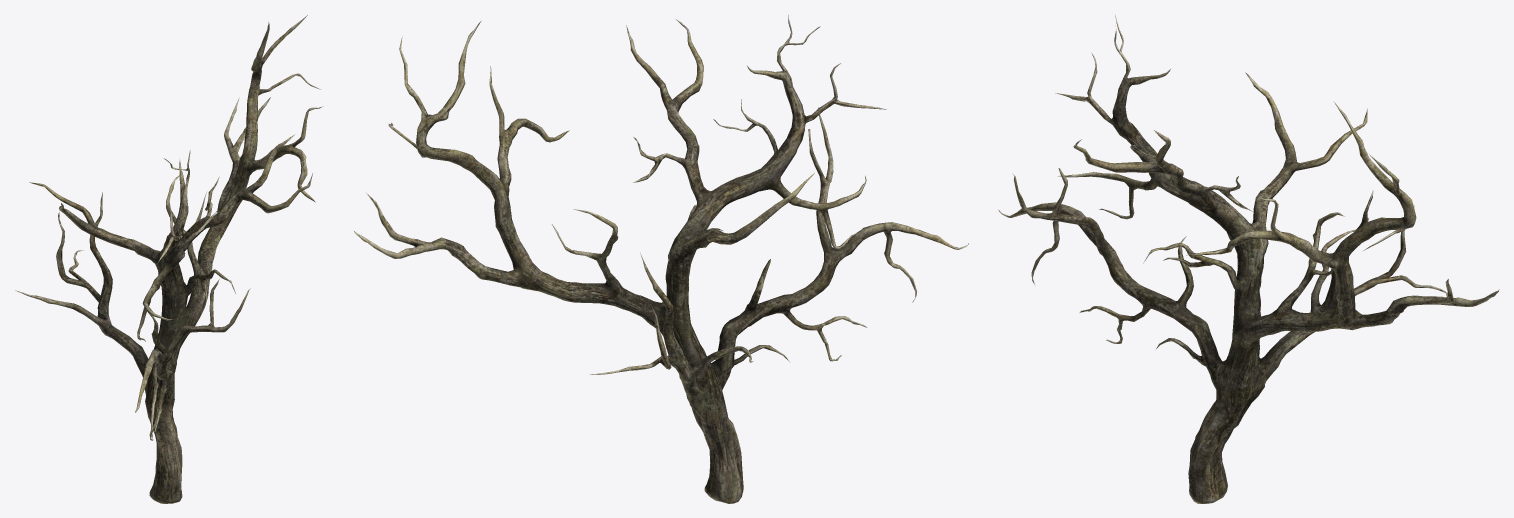
The model's file is DryTreeT3_branches_3_SM.fbx.
3 renders of one model, left to right at view 1: azimuth 30°, elevation 25°; view 2: azimuth 150°, elevation 25°; view 3: azimuth 270°, elevation 25°, orthographic. The views are drawn at different scales.
Parts seen in each view (by area): view 1: DryTreeT3_branches_3_SM; view 2: DryTreeT3_branches_3_SM; view 3: DryTreeT3_branches_3_SM.
Boxes of the visible parts, left/top/right/bottom form: DryTreeT3_branches_3_SM: left=15, top=15, right=323, bottom=503; DryTreeT3_branches_3_SM: left=354, top=15, right=968, bottom=503; DryTreeT3_branches_3_SM: left=998, top=14, right=1499, bottom=503.
Size of the model in its own units: 947 by 1083 by 1008.
